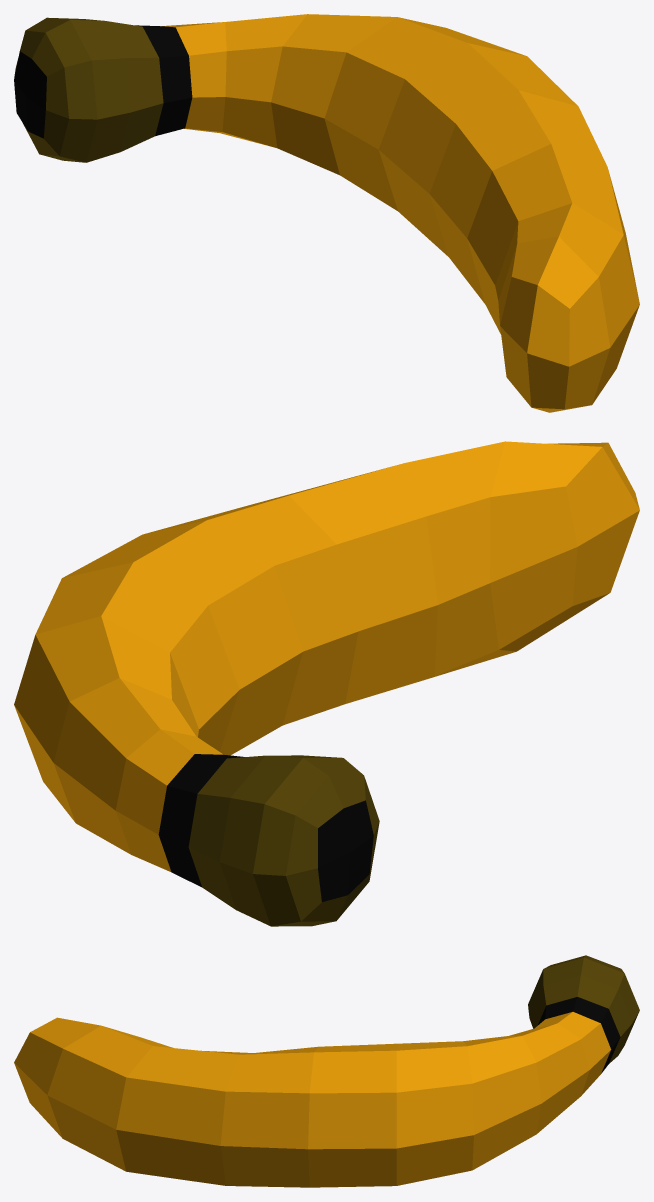
Rendered from banana.fbx.
3 views of the same model, one above another, from view 1: azimuth 30°, elevation 25°; view 2: azimuth 150°, elevation 25°; view 3: azimuth 270°, elevation 25° (orthographic). The views are drawn at different scales.
Visible parts, largest first — view 1: Cube; view 2: Cube; view 3: Cube.
Part boxes in pixels (x1,y1,x2,y2): Cube: (14, 14, 639, 412); Cube: (14, 441, 639, 926); Cube: (14, 955, 639, 1187).
Bounding box in the file's own units: 413 × 207 × 780.
